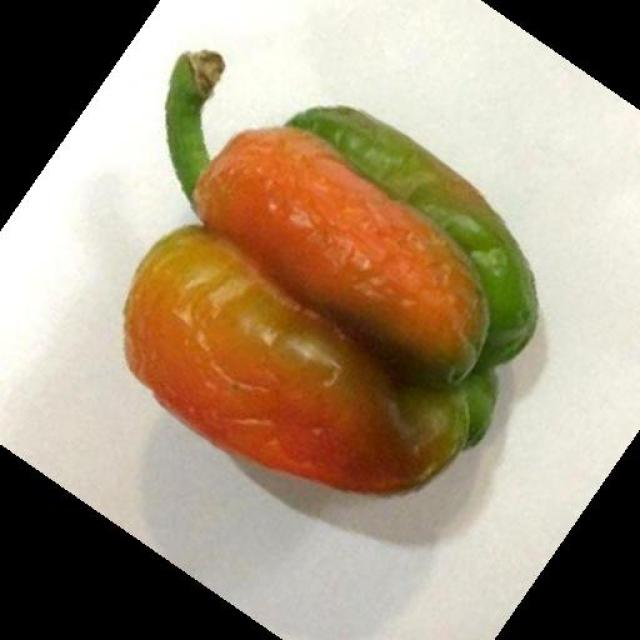Stale_Capsicum: (135, 60, 541, 490)
